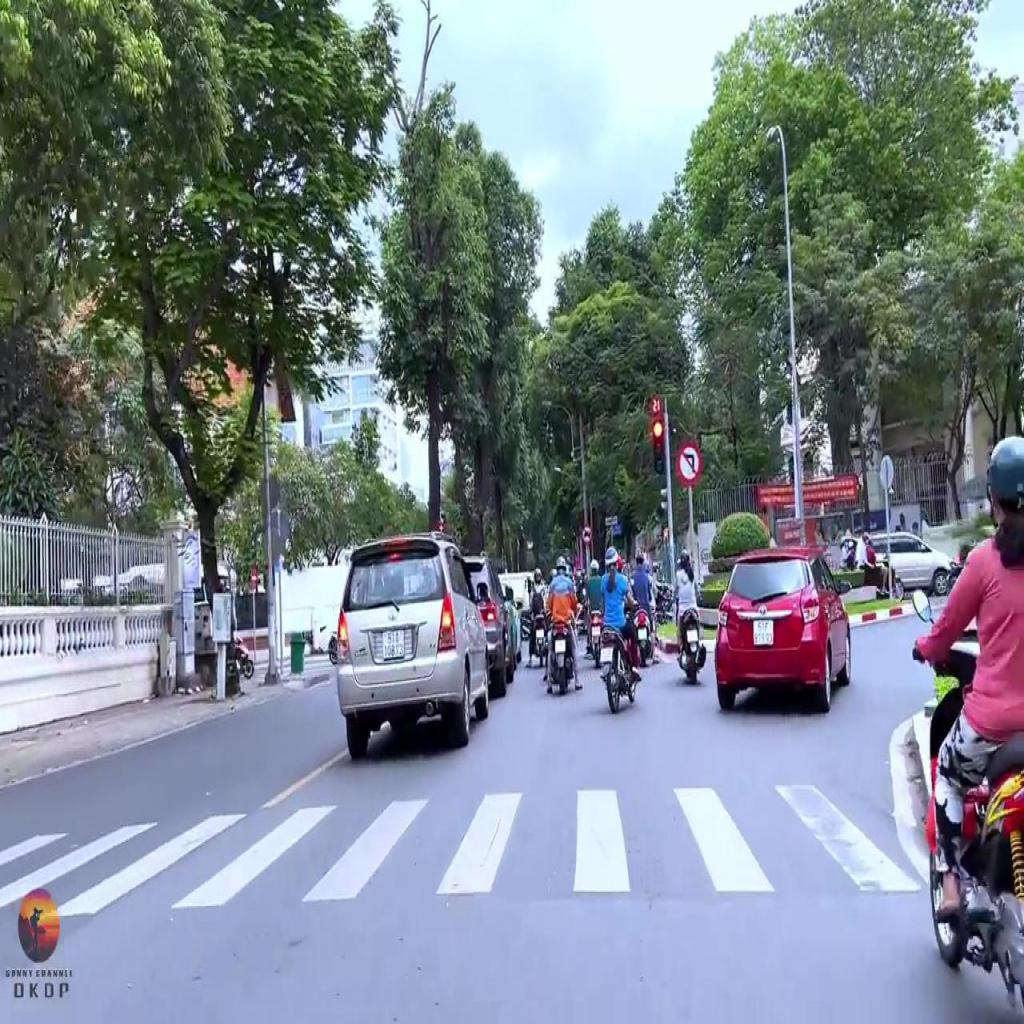cam_o_to_tai: (582, 526, 592, 544)
cam_re_trai: (675, 439, 702, 485)
